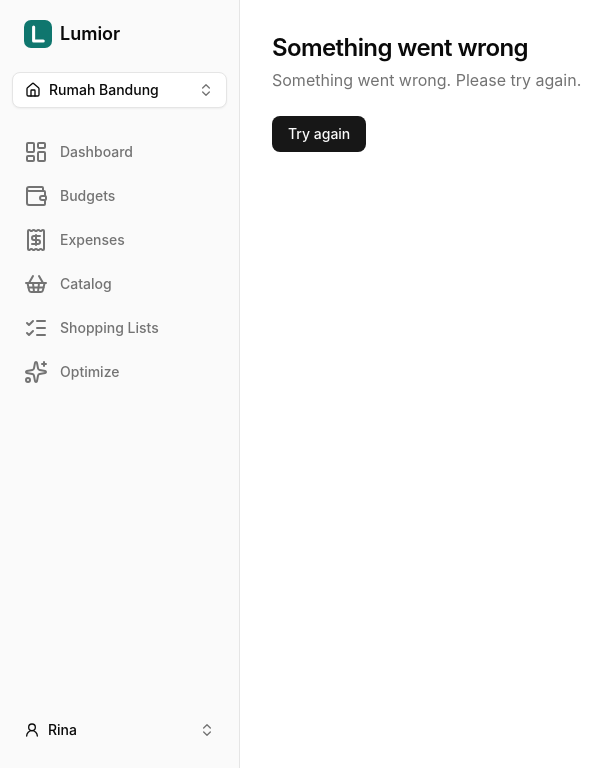
Test: error boundary › "Try again" renders the page again
Expected: the message "Something went wrong Something went wrong. Please try again. Try again" is shown, [272, 33, 581, 152]
Click the button "Try again" at (319, 134), box [272, 116, 366, 152]
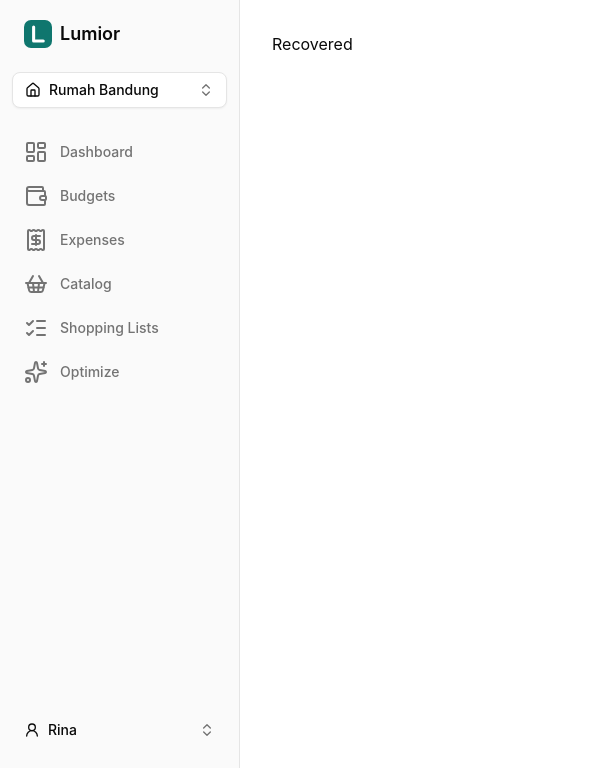
Expected: the heading "Recovered" is shown, [272, 34, 353, 54]
